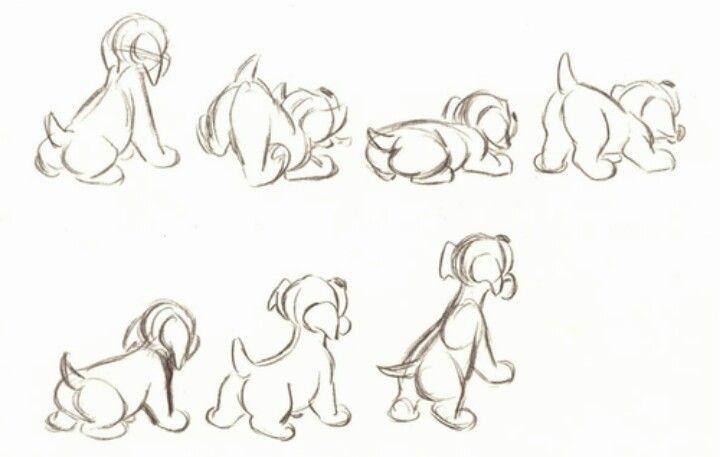puppy-dog: (374, 231, 522, 433), (202, 272, 356, 441), (34, 12, 181, 186), (43, 299, 201, 439), (196, 53, 353, 191), (532, 50, 685, 185), (363, 89, 521, 187)
